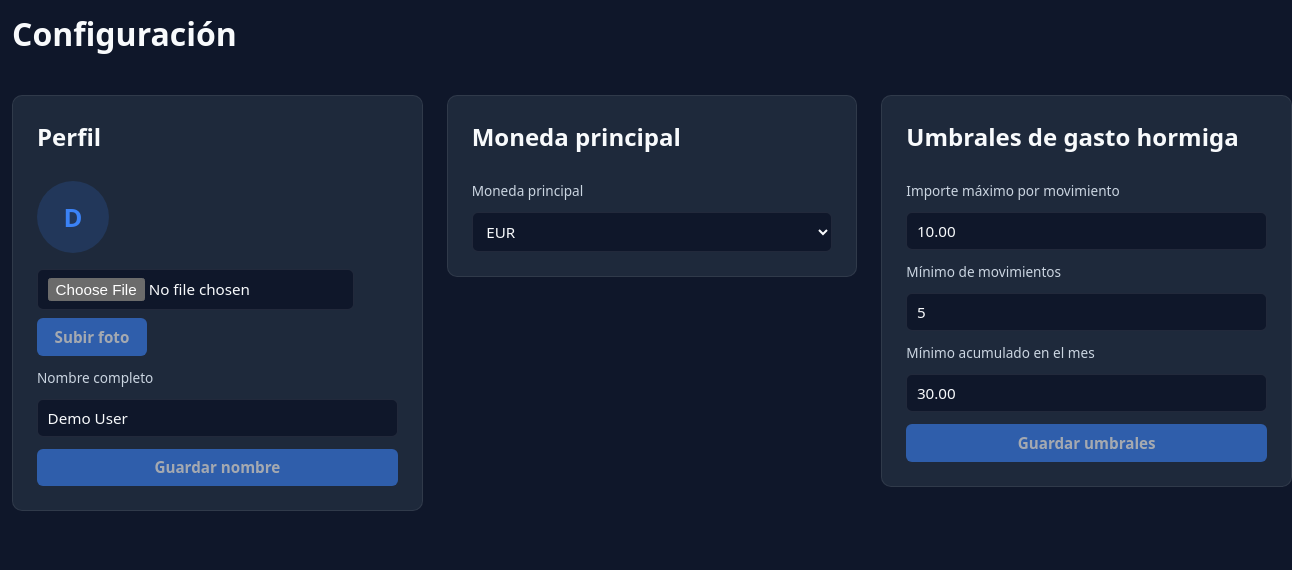
Test: PreferencesPage › permite editar los umbrales de gasto hormiga
Replace the text in the number field labelled "Importe máximo por movimiento" with "15.00" at (1087, 231), box left=906, top=212, right=1267, bottom=250
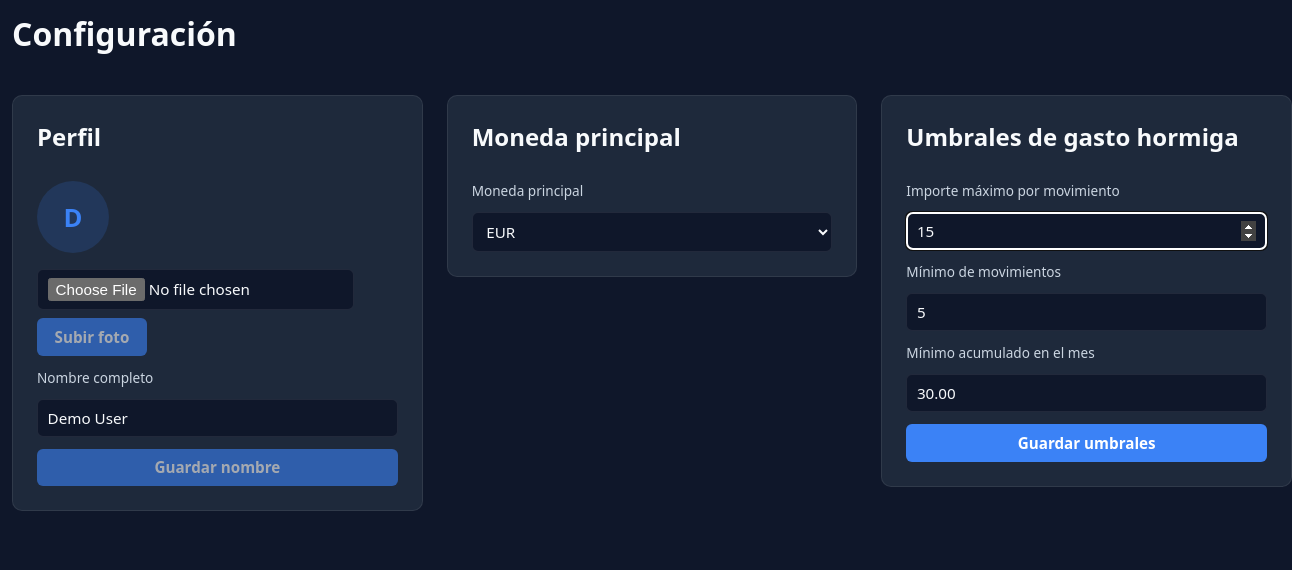
Click the button "Guardar umbrales" at (1087, 443), box left=906, top=424, right=1267, bottom=462
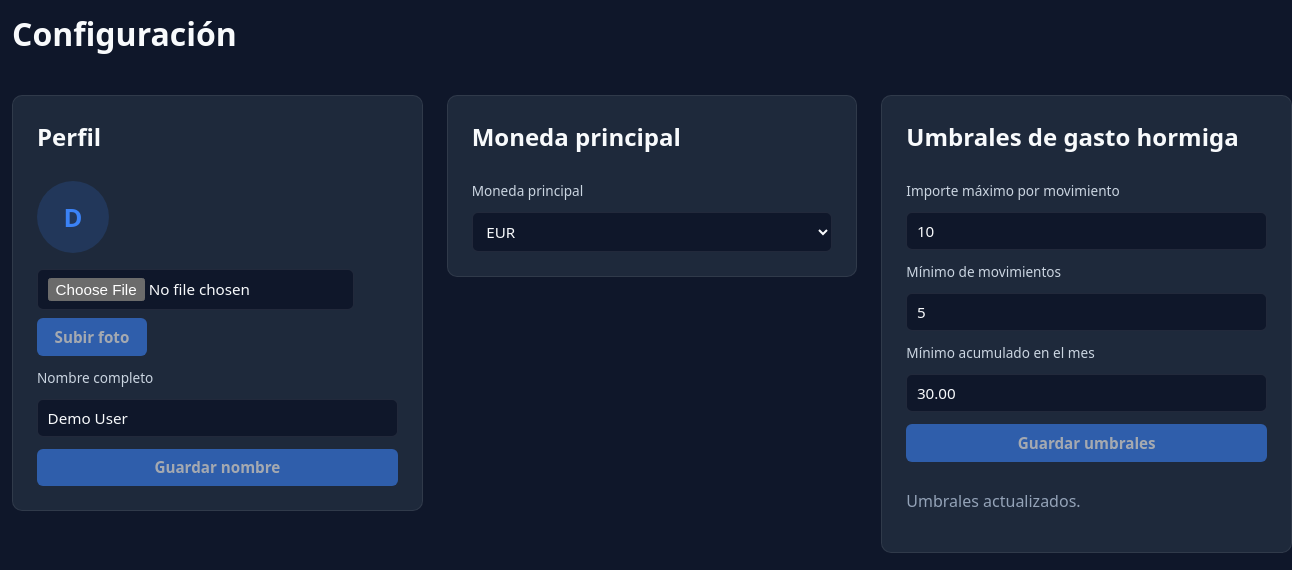
Check: the text "Umbrales actualizados." is shown, box left=906, top=490, right=1081, bottom=512
